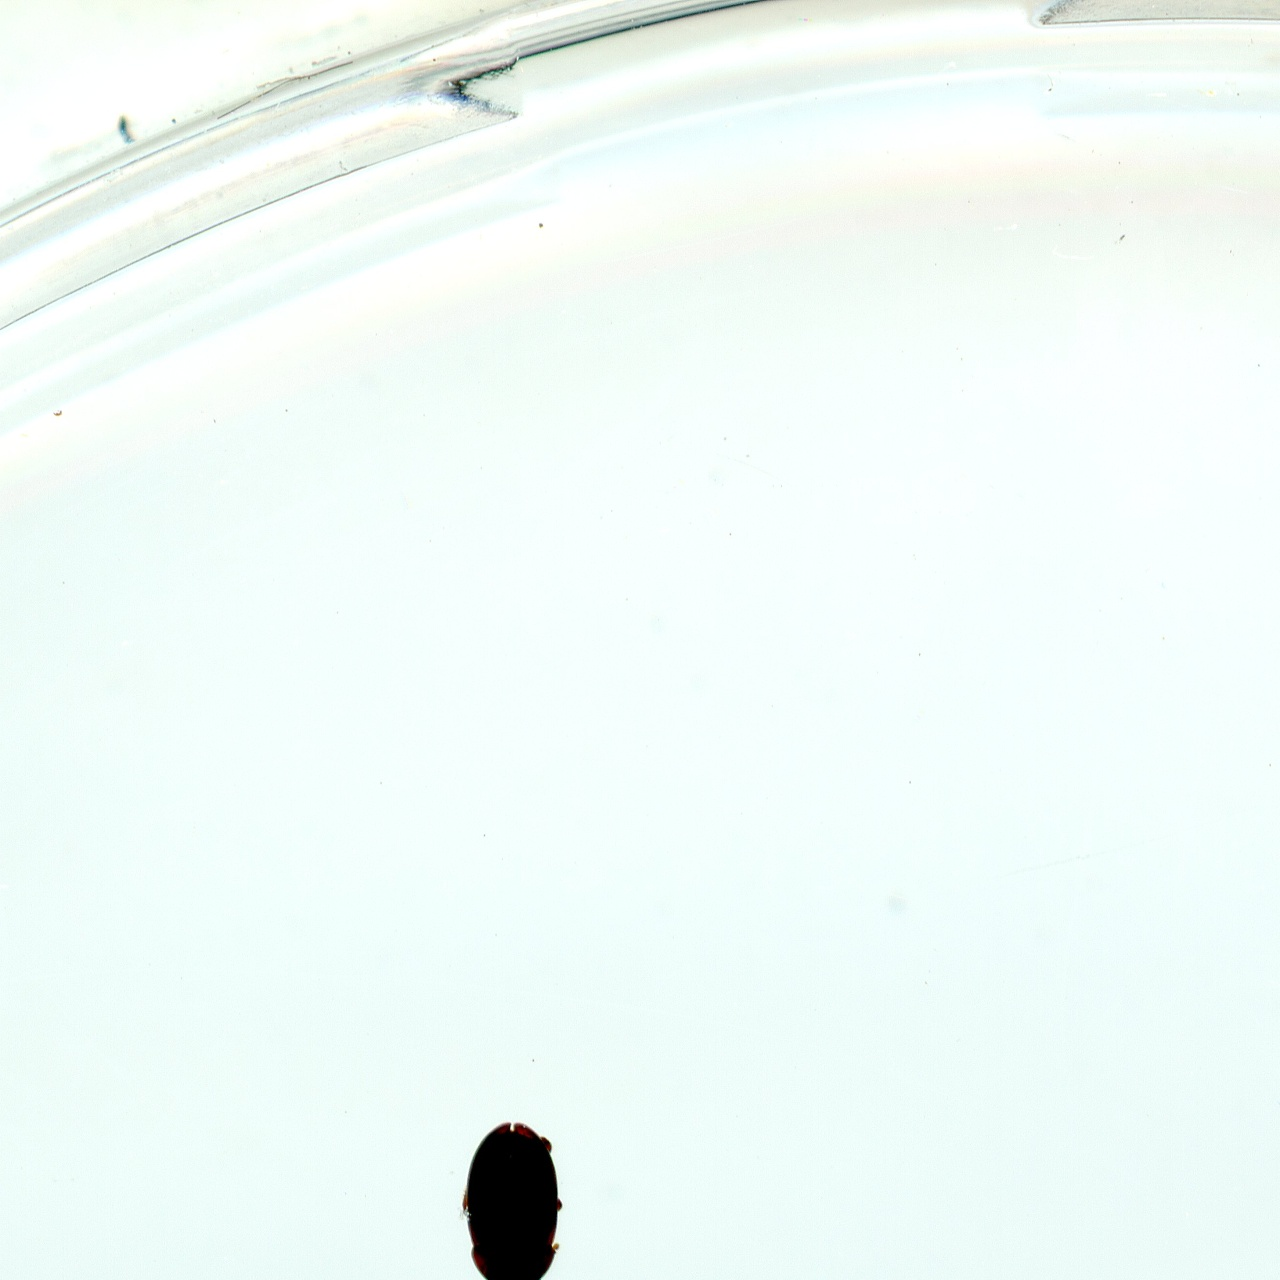arthropod: (458, 1122, 570, 1280)
